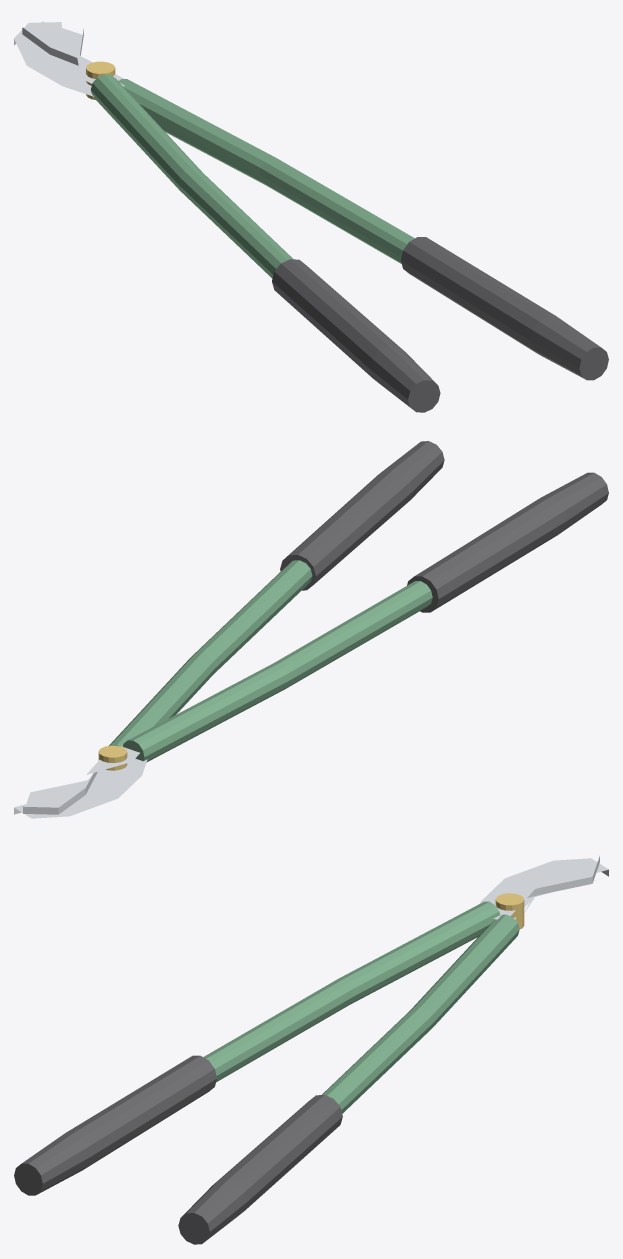
The model's file is loppers.glb.
3 renders of one model, top to bottom at view 1: azimuth 30°, elevation 25°; view 2: azimuth 150°, elevation 25°; view 3: azimuth 330°, elevation 25°, orthographic. The views are drawn at different scales.
Parts seen in each view (by area): view 1: BodyGroup, BladePivot; view 2: BladePivot, BodyGroup; view 3: BladePivot, BodyGroup.
Part boxes in pixels (box(x1,y1,x2,y2)): BodyGroup: box(14, 22, 608, 380); BladePivot: box(22, 21, 440, 412); BladePivot: box(23, 472, 608, 814); BodyGroup: box(14, 441, 444, 818); BladePivot: box(14, 856, 599, 1195); BodyGroup: box(178, 858, 608, 1244).
Size of the model in its own units: 0.1419 by 0.032 by 0.5959.
